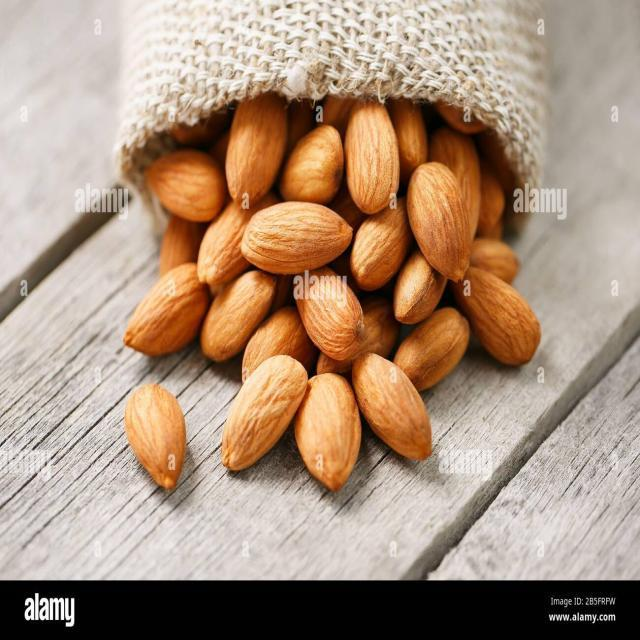almond: (220, 357, 306, 472), (353, 353, 433, 462), (454, 270, 542, 367), (125, 262, 211, 359), (292, 371, 361, 490), (242, 203, 354, 274), (410, 162, 473, 284), (224, 94, 290, 206), (197, 197, 274, 292), (123, 384, 188, 491), (203, 272, 278, 363), (293, 271, 367, 362), (345, 102, 402, 214), (393, 307, 470, 386), (145, 149, 226, 221), (351, 198, 409, 289), (280, 125, 346, 202), (392, 254, 448, 324), (395, 94, 428, 175)
